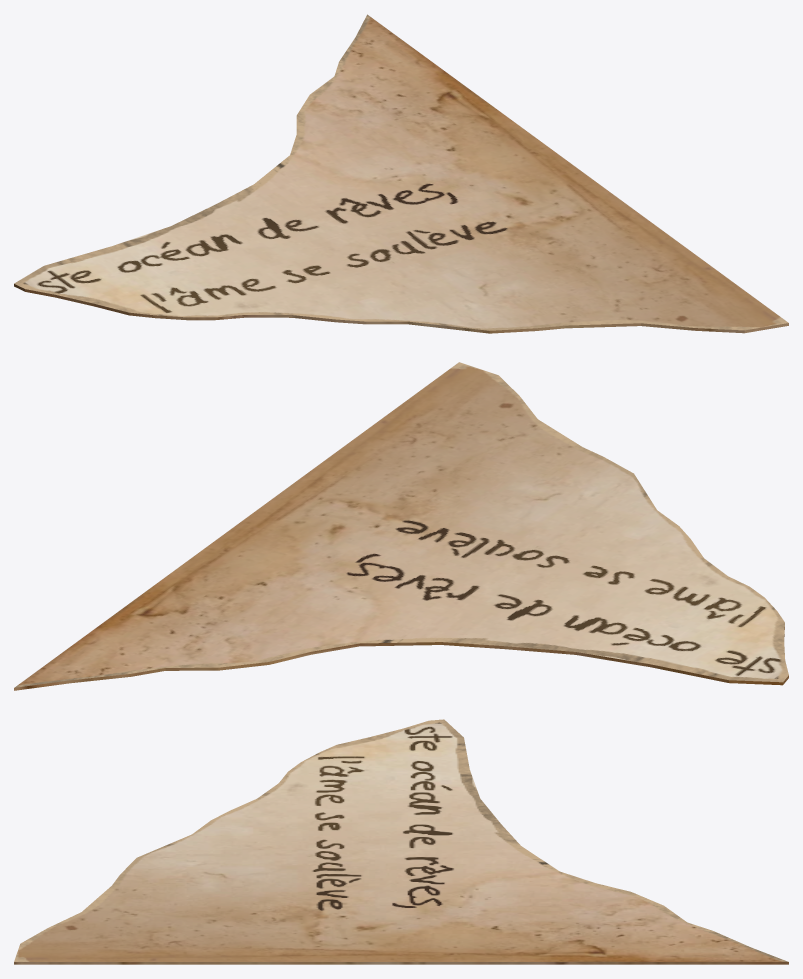
Rendered from Poeme3.fbx.
The picture shows the model from 3 angles, top to bottom: view 1: azimuth 30°, elevation 25°; view 2: azimuth 150°, elevation 25°; view 3: azimuth 270°, elevation 25°; orthographic projection. The views are drawn at different scales.
Visible parts, largest first — view 1: Poeme3; view 2: Poeme3; view 3: Poeme3.
Boxes of the visible parts, left/top/right/bottom form: Poeme3: left=14, top=14, right=788, bottom=333; Poeme3: left=14, top=362, right=788, bottom=690; Poeme3: left=14, top=719, right=788, bottom=964.
Size of the model in its own units: 8.7 by 0.0429 by 11.74.
